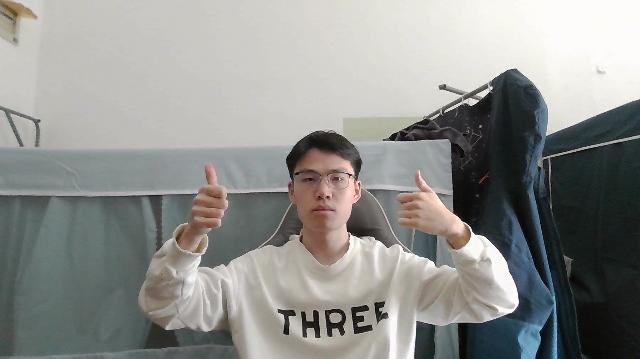good: (397, 169, 445, 233), (192, 160, 228, 231)
